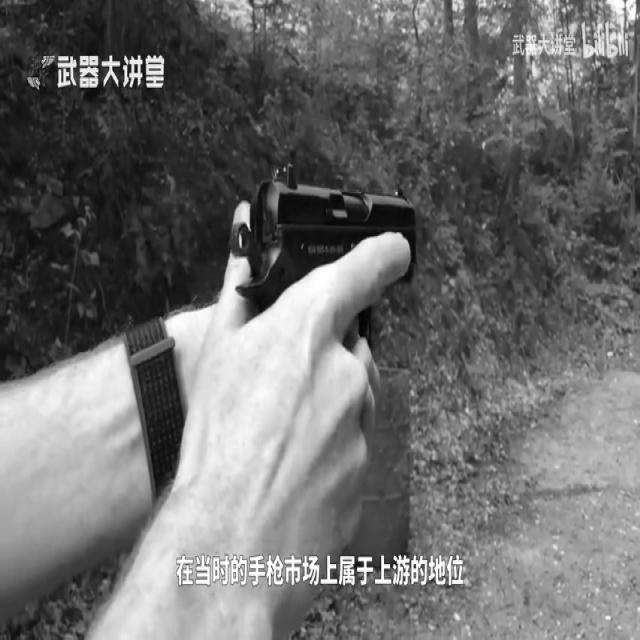Hand-Gun: (227, 147, 421, 371)
